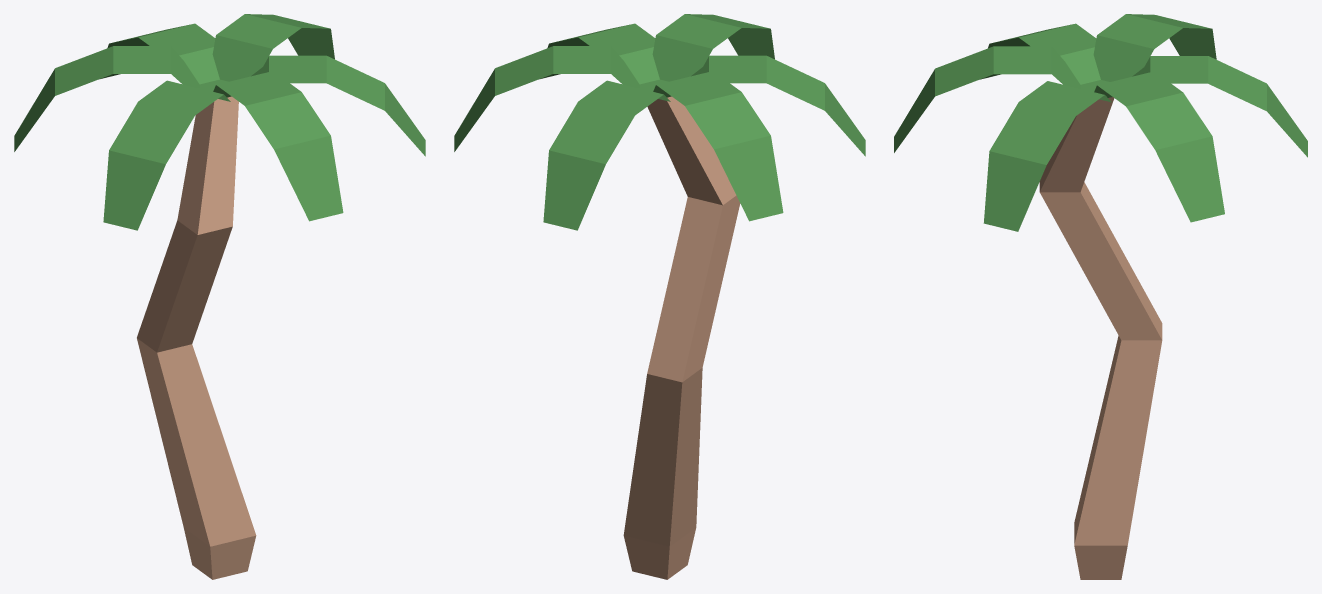
The model's file is palm_bend.fbx.
3 views of the same model, side by side, from view 1: azimuth 30°, elevation 25°; view 2: azimuth 150°, elevation 25°; view 3: azimuth 270°, elevation 25° (orthographic).
Visible parts, largest first — view 1: tree_palmBend; view 2: tree_palmBend; view 3: tree_palmBend.
Boxes of the visible parts, box(x1,y1,x2,y2) form: tree_palmBend: box(14, 14, 425, 579); tree_palmBend: box(454, 14, 865, 579); tree_palmBend: box(894, 14, 1307, 579).
Size of the model in its own units: 0.6779 by 1 by 0.7339.
